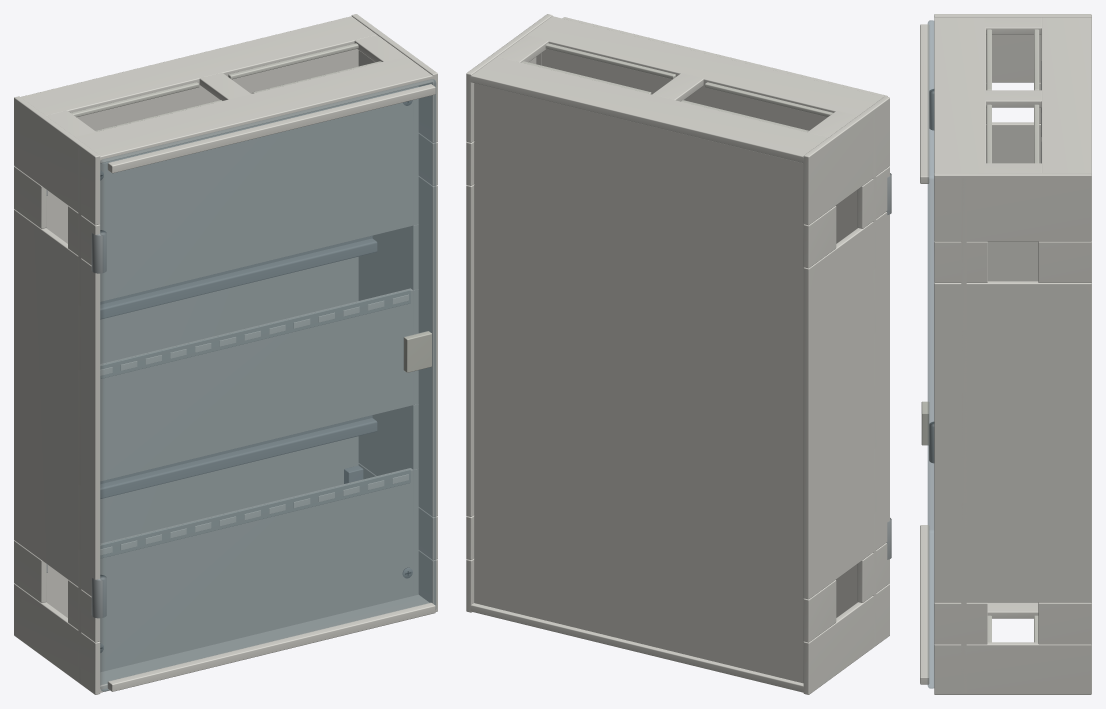
The model's file is gammaboard_default.glb.
3 renders of one model, left to right at view 1: azimuth 30°, elevation 25°; view 2: azimuth 150°, elevation 25°; view 3: azimuth 270°, elevation 25°, orthographic. The views are drawn at different scales.
Parts seen in each view (by area): view 1: node-168, node-2 · Original material, node-107 · Original material, node-44 · Original material.001, node-167 · Original material, node-107 · Original material.004, node-107 · Original material.005, node-2 · Original material.002, node-167 · Original material.001, node-175; view 2: node-2 · Original material, node-107 · Original material, node-2 · Original material.002, node-167 · Original material; view 3: node-2 · Original material, node-168, node-167 · Original material, node-107 · Original material, node-2 · Original material.002, node-167 · Original material.001, node-175.
Part boxes in pixels (x1,y1,x2,y2): node-168: [100, 79, 436, 691]; node-2 · Original material: [14, 14, 437, 694]; node-107 · Original material: [78, 86, 418, 682]; node-44 · Original material.001: [100, 236, 377, 498]; node-167 · Original material: [107, 84, 435, 691]; node-107 · Original material.004: [100, 290, 410, 558]; node-107 · Original material.005: [100, 294, 408, 555]; node-2 · Original material.002: [71, 43, 381, 131]; node-167 · Original material.001: [91, 230, 106, 618]; node-175: [403, 331, 431, 372]; node-2 · Original material: [466, 14, 889, 694]; node-107 · Original material: [536, 49, 876, 644]; node-2 · Original material.002: [521, 43, 832, 132]; node-167 · Original material: [562, 17, 887, 96]; node-2 · Original material: [934, 14, 1091, 694]; node-168: [927, 20, 934, 688]; node-167 · Original material: [920, 24, 929, 684]; node-107 · Original material: [961, 177, 966, 692]; node-2 · Original material.002: [986, 29, 1039, 642]; node-167 · Original material.001: [929, 89, 934, 463]; node-175: [921, 401, 929, 445].
Size of the model in its own units: 5.02 by 7.5 by 2.24.
